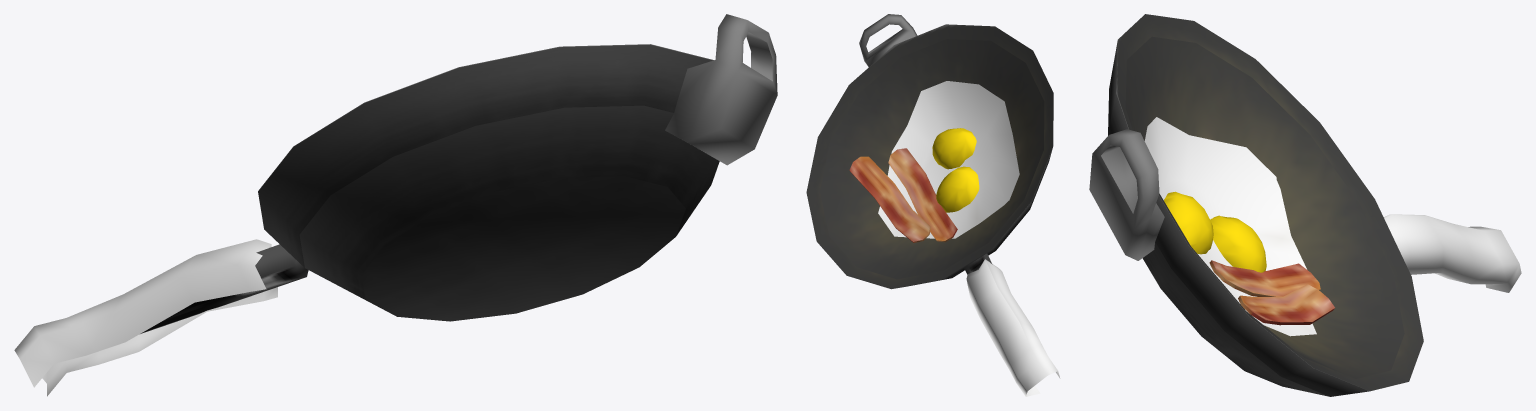
Rendered from H_WokPanBaconEggs.fbx.
3 views of the same model, side by side, from view 1: azimuth 30°, elevation 25°; view 2: azimuth 150°, elevation 25°; view 3: azimuth 270°, elevation 25° (orthographic). The views are drawn at different scales.
Parts seen in each view (by area): view 1: FriedEgg_Bacon; view 2: FriedEgg_Bacon; view 3: FriedEgg_Bacon.
Boxes of the visible parts, bbox=[...] form: FriedEgg_Bacon: bbox=[14, 14, 777, 396]; FriedEgg_Bacon: bbox=[806, 14, 1060, 396]; FriedEgg_Bacon: bbox=[1089, 14, 1521, 396].
Bounding box in the file's own units: 61.35 × 44.65 × 46.95.
